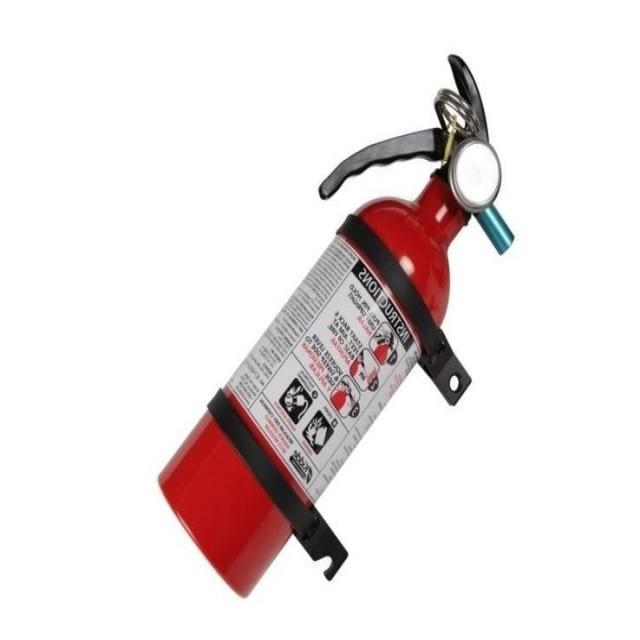fire_extinguisher: (152, 45, 518, 604)
